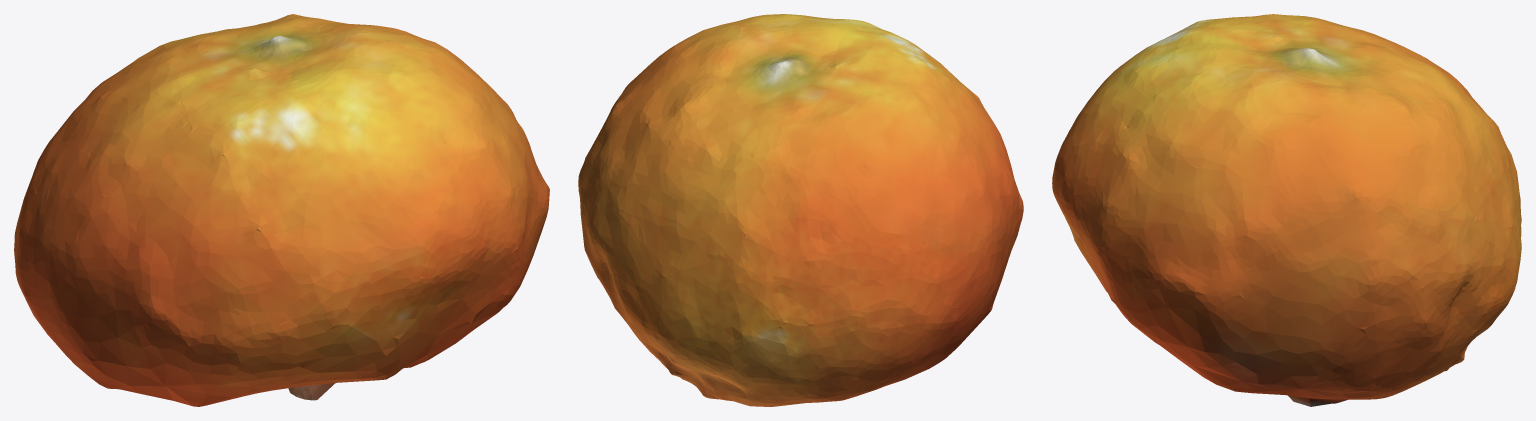
The model's file is Orange.fbx.
3 views of the same model, side by side, from view 1: azimuth 30°, elevation 25°; view 2: azimuth 150°, elevation 25°; view 3: azimuth 270°, elevation 25° (orthographic). The views are drawn at different scales.
Parts seen in each view (by area): view 1: mesh; view 2: mesh; view 3: mesh.
Part boxes in pixels (x1,y1,x2,y2): mesh: (14,14,549,406); mesh: (578,14,1023,406); mesh: (1052,14,1521,406).
Bounding box in the file's own units: 0.0688 × 0.0534 × 0.0669.
1 material, 1 textured.
